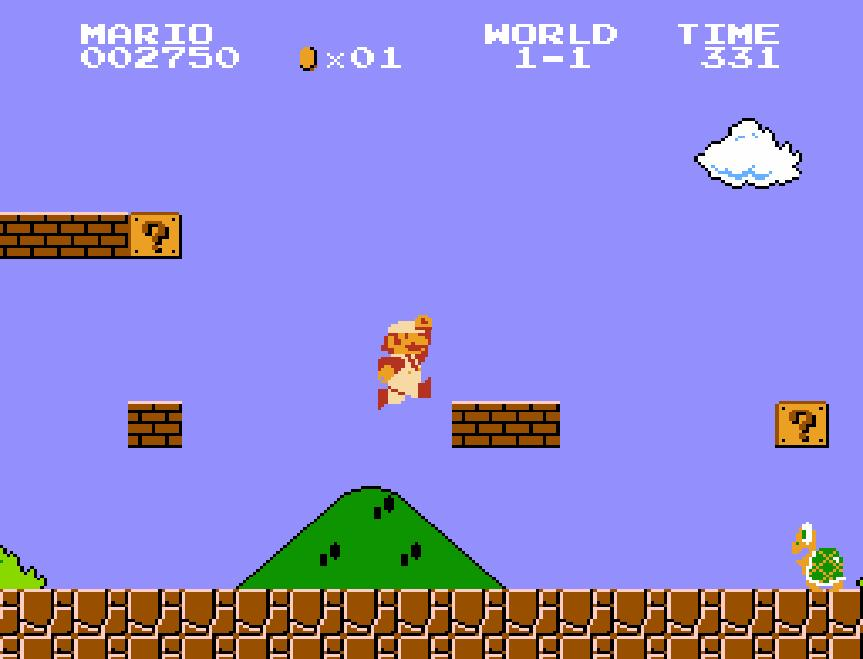fire_mario: (376, 313, 434, 411)
